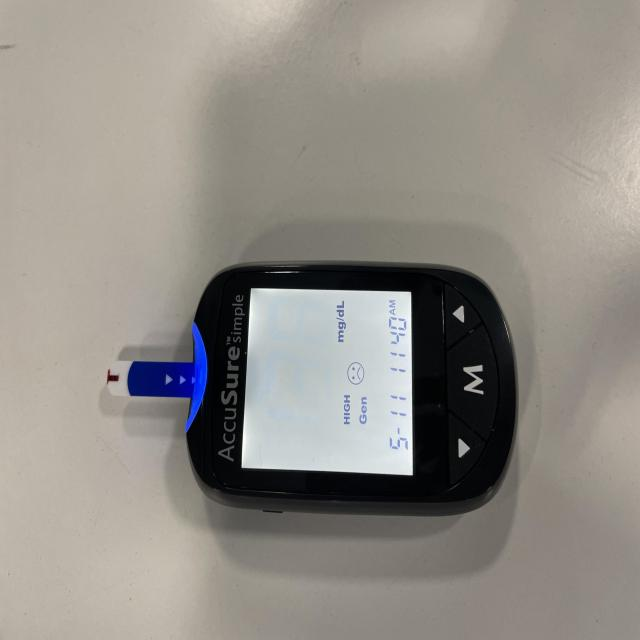gluco: (184, 253, 523, 512)
